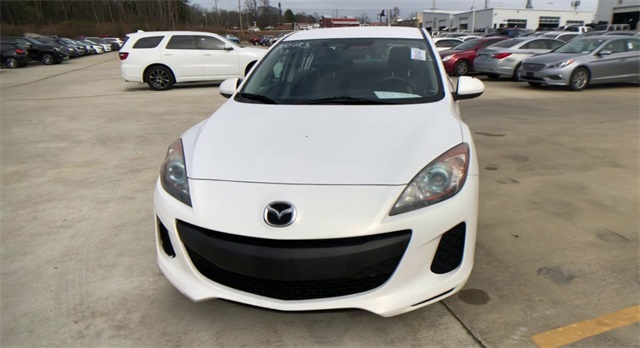Mazda3 Hatchback: (153, 25, 484, 317)
